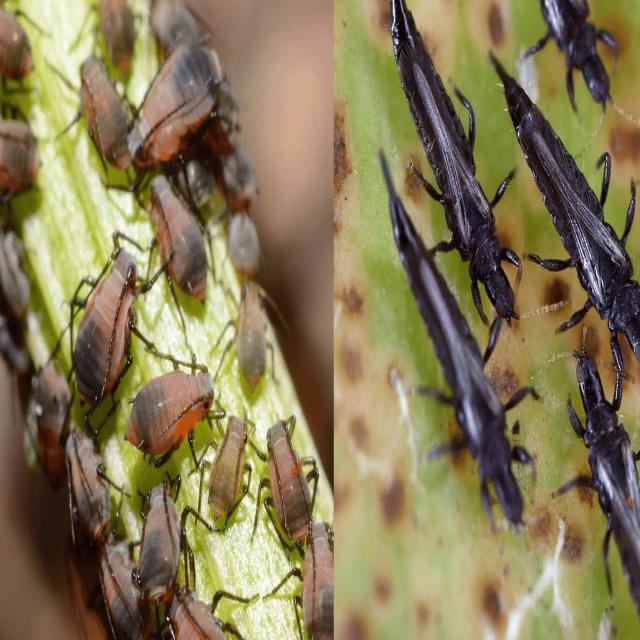Thrip-Adult-: (384, 0, 531, 334)
